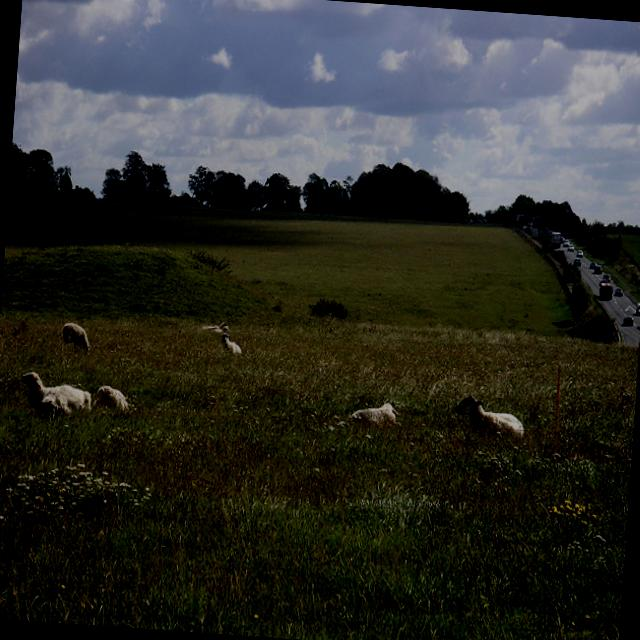Vehicle: (598, 280, 613, 300), (548, 230, 561, 248), (526, 215, 540, 228), (623, 316, 634, 326), (594, 264, 603, 274), (614, 287, 623, 296), (572, 258, 581, 266), (634, 301, 640, 312), (602, 274, 610, 282), (594, 268, 602, 274), (568, 243, 574, 250), (562, 239, 568, 246), (576, 250, 582, 256), (590, 262, 596, 268), (546, 230, 552, 236), (560, 235, 565, 242)
